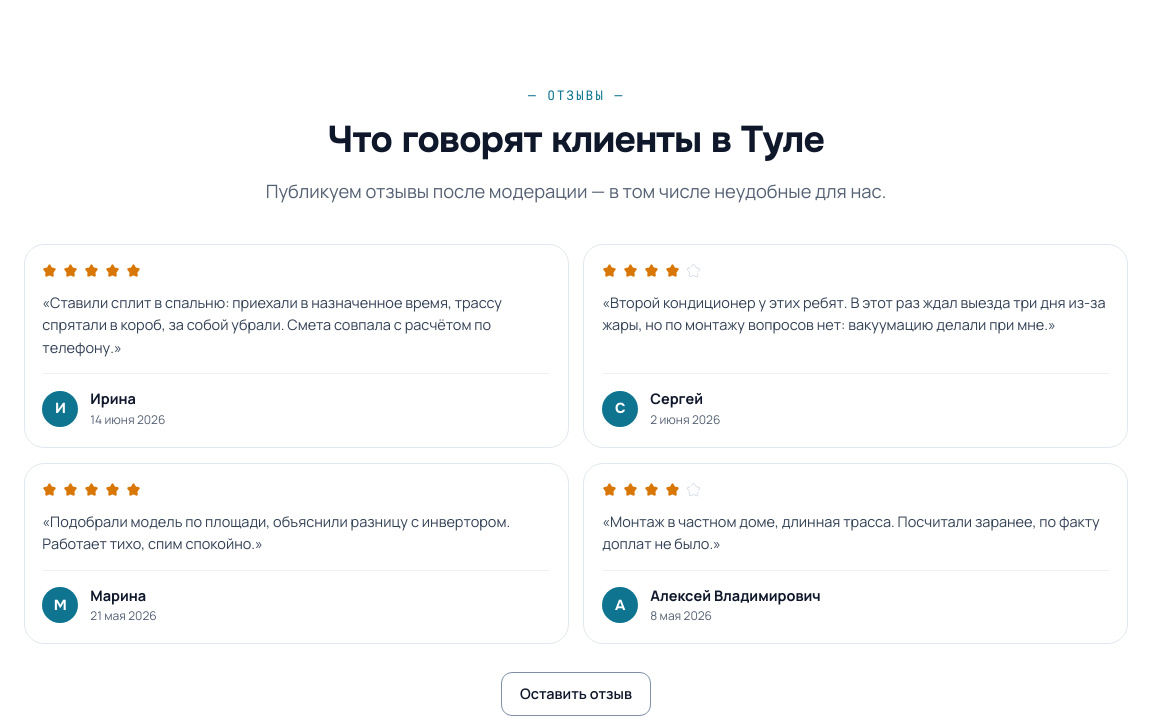
Блок отзывов › окно с формой открывается по нажатию и содержит памятку
Step 1. Click the button "Оставить отзыв" → (576, 694), box 501,672 -> 651,716
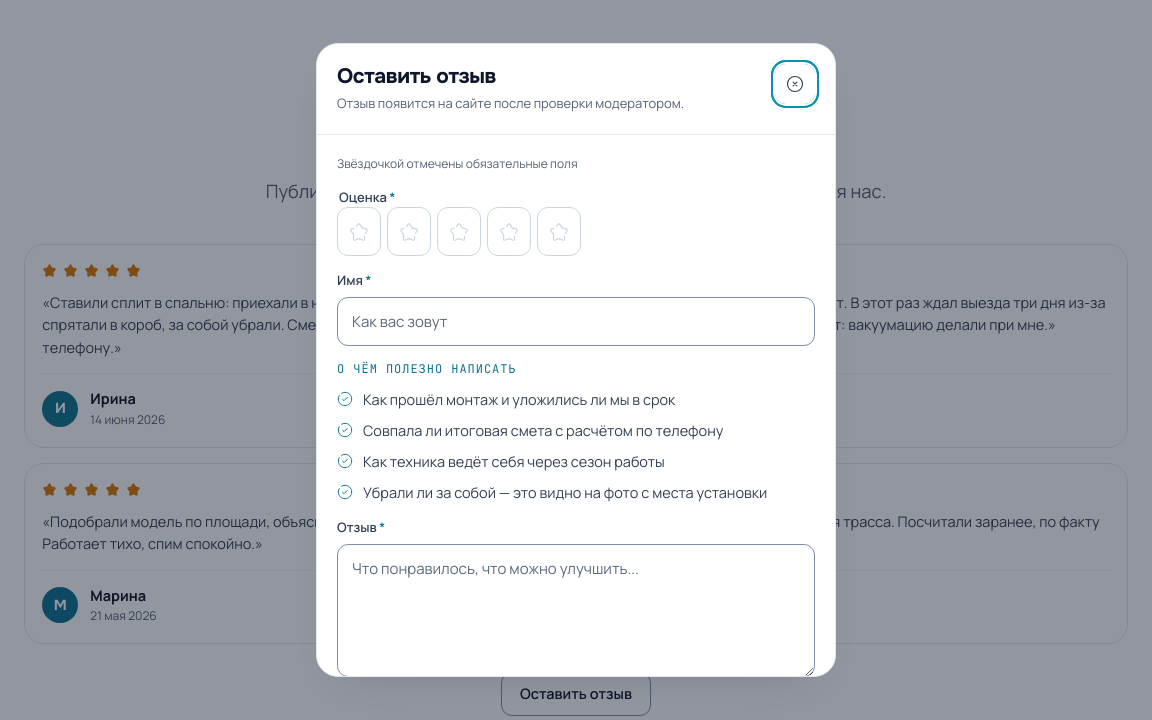
Result: the dialog "Оставить отзыв" is shown at 316,43 -> 836,677
Result: the field labelled "Имя *" is shown at 337,297 -> 815,346
Result: the list item "Как прошёл монтаж и уложились ли мы в срок" is shown at 337,390 -> 675,409
